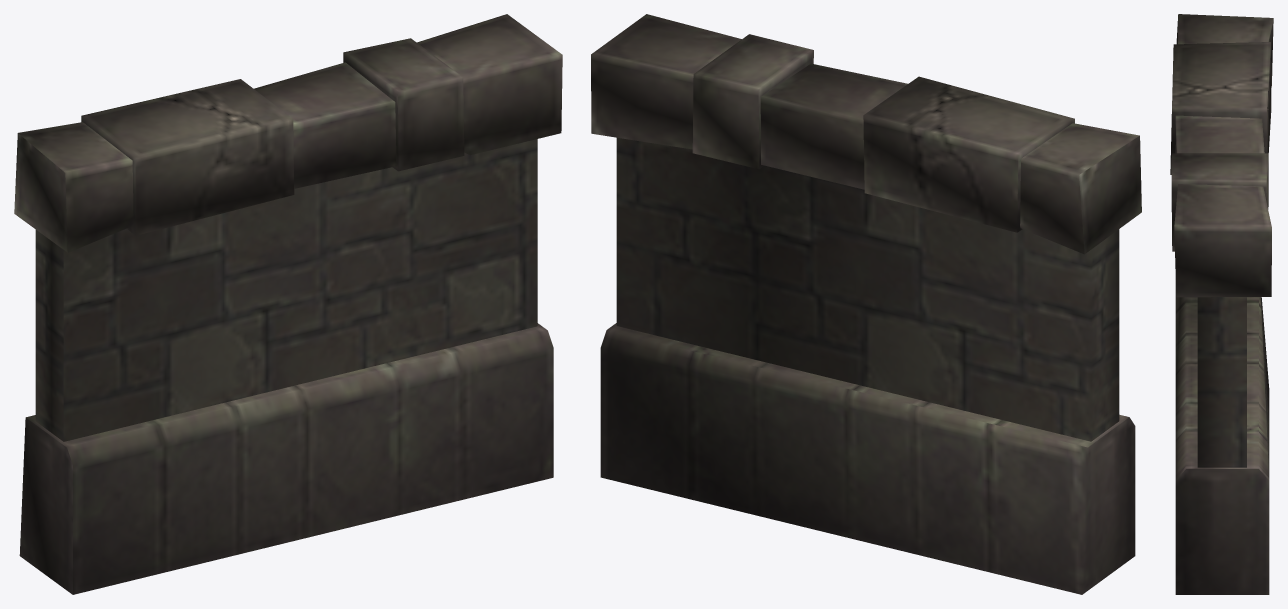
The model's file is jianzhu03.FBX.
3 views of the same model, side by side, from view 1: azimuth 30°, elevation 25°; view 2: azimuth 150°, elevation 25°; view 3: azimuth 270°, elevation 25° (orthographic). The views are drawn at different scales.
Parts seen in each view (by area): view 1: polySurface765; view 2: polySurface765; view 3: polySurface765.
Boxes of the visible parts, x1,y1,x2,y2 form: polySurface765: (14, 14, 562, 594); polySurface765: (591, 14, 1141, 594); polySurface765: (1170, 14, 1273, 594).
Bounding box in the file's own units: 32.49 × 26.65 × 6.67.
